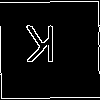K: (24, 24, 57, 72)
